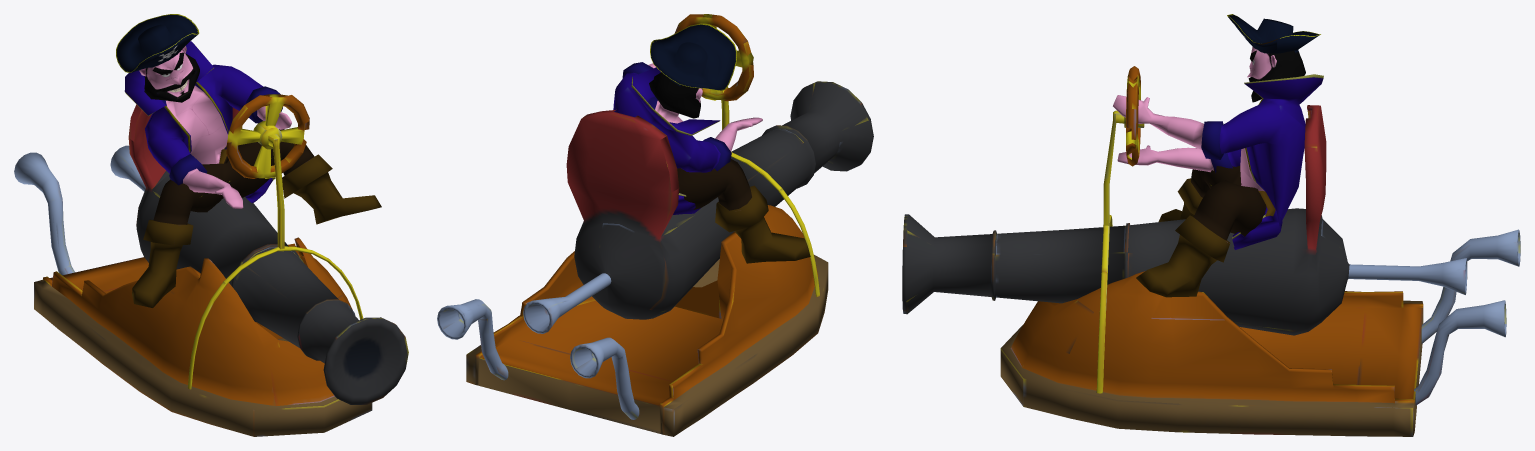
File: pirataGiroDer_000176.obj
3 views of the same model, side by side, from view 1: azimuth 30°, elevation 25°; view 2: azimuth 150°, elevation 25°; view 3: azimuth 270°, elevation 25° (orthographic). The views are drawn at different scales.
Visible parts, largest first — view 1: carro_pirata, Pirata_PirataH_Pirata_PirataH.001; view 2: carro_pirata, Pirata_PirataH_Pirata_PirataH.001; view 3: carro_pirata, Pirata_PirataH_Pirata_PirataH.001.
Part boxes in pixels (x1,y1,x2,y2): carro_pirata: [14, 94, 408, 436]; Pirata_PirataH_Pirata_PirataH.001: [116, 14, 381, 307]; carro_pirata: [437, 14, 873, 436]; Pirata_PirataH_Pirata_PirataH.001: [613, 23, 810, 263]; carro_pirata: [902, 66, 1520, 436]; Pirata_PirataH_Pirata_PirataH.001: [1113, 14, 1323, 297].
Size of the model in its own units: 5.65 by 7.41 by 12.1.
Materials: 2 (2 with a texture image).
